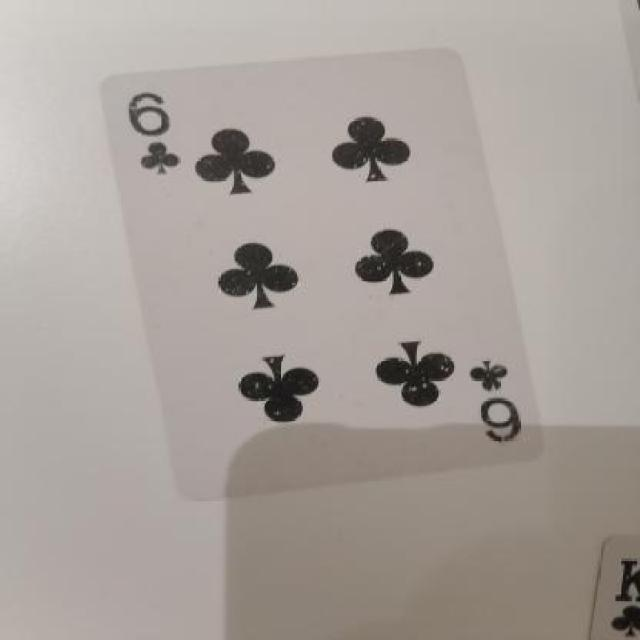6C: (462, 332, 540, 456), (116, 86, 207, 191)
